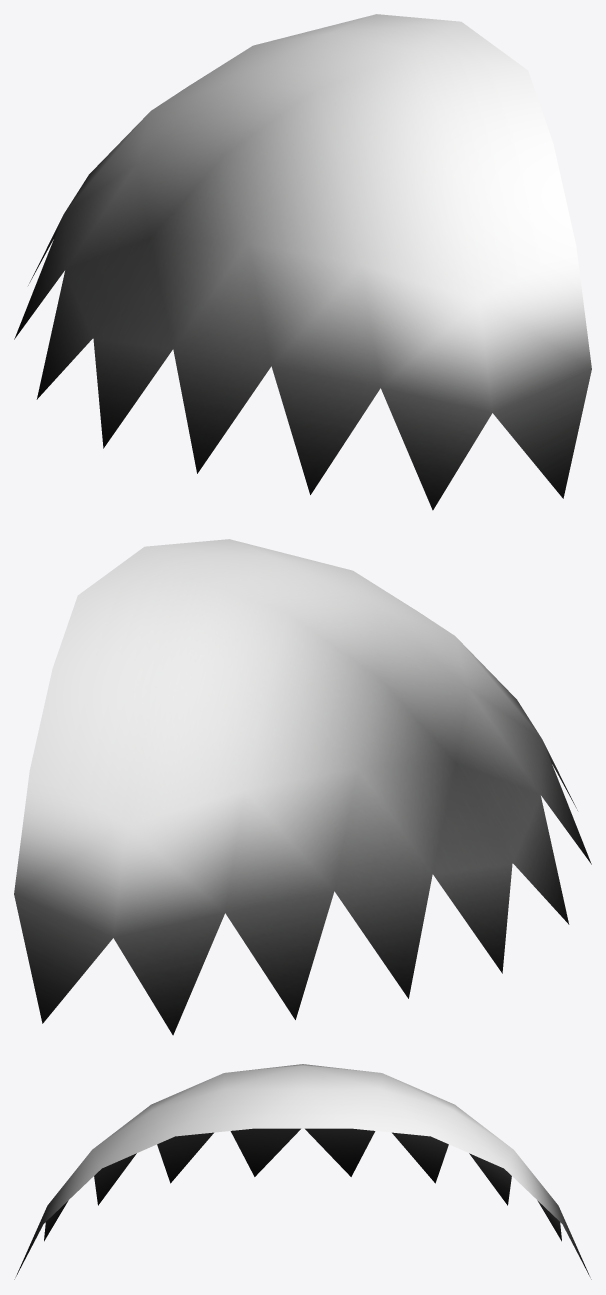
Rendered from VFX_Sphere_Bite_Mesh.FBX.
The picture shows the model from 3 angles, top to bottom: view 1: azimuth 30°, elevation 25°; view 2: azimuth 150°, elevation 25°; view 3: azimuth 270°, elevation 25°; orthographic projection. The views are drawn at different scales.
Parts seen in each view (by area): view 1: Sphere_Bite; view 2: Sphere_Bite; view 3: Sphere_Bite.
Boxes of the visible parts, left/top/right/bottom form: Sphere_Bite: left=14, top=14, right=591, bottom=510; Sphere_Bite: left=14, top=539, right=591, bottom=1035; Sphere_Bite: left=14, top=1064, right=591, bottom=1279.
Size of the model in its own units: 1.18 by 0.7675 by 1.92.
1 material, 1 textured.
